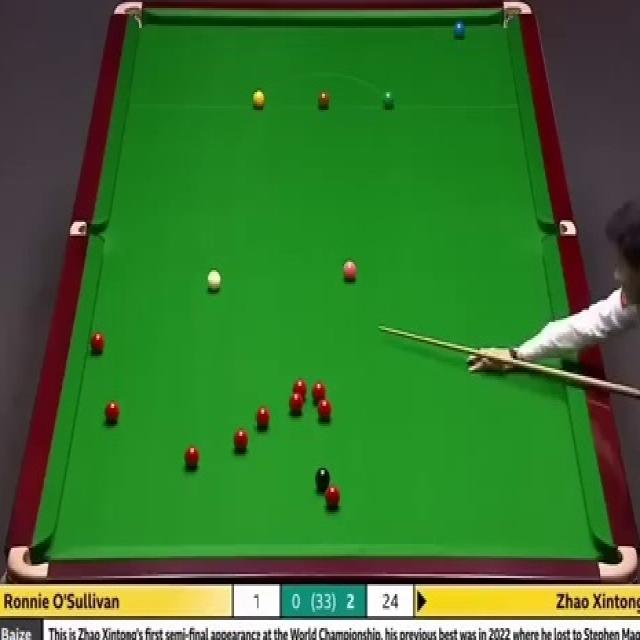black-ball: (314, 466, 333, 492)
blue-ball: (454, 20, 466, 42)
brown-ball: (318, 90, 331, 110)
green-ball: (381, 90, 395, 111)
pink-ball: (342, 258, 357, 286)
red-ball: (89, 332, 106, 356), (233, 428, 249, 453), (311, 379, 327, 404), (318, 397, 332, 425), (324, 484, 340, 508), (254, 405, 270, 429), (184, 444, 198, 471), (293, 378, 307, 404), (105, 401, 118, 424), (290, 393, 302, 413)
white-ball: (207, 268, 220, 292)
yellow-ball: (251, 89, 266, 110)
